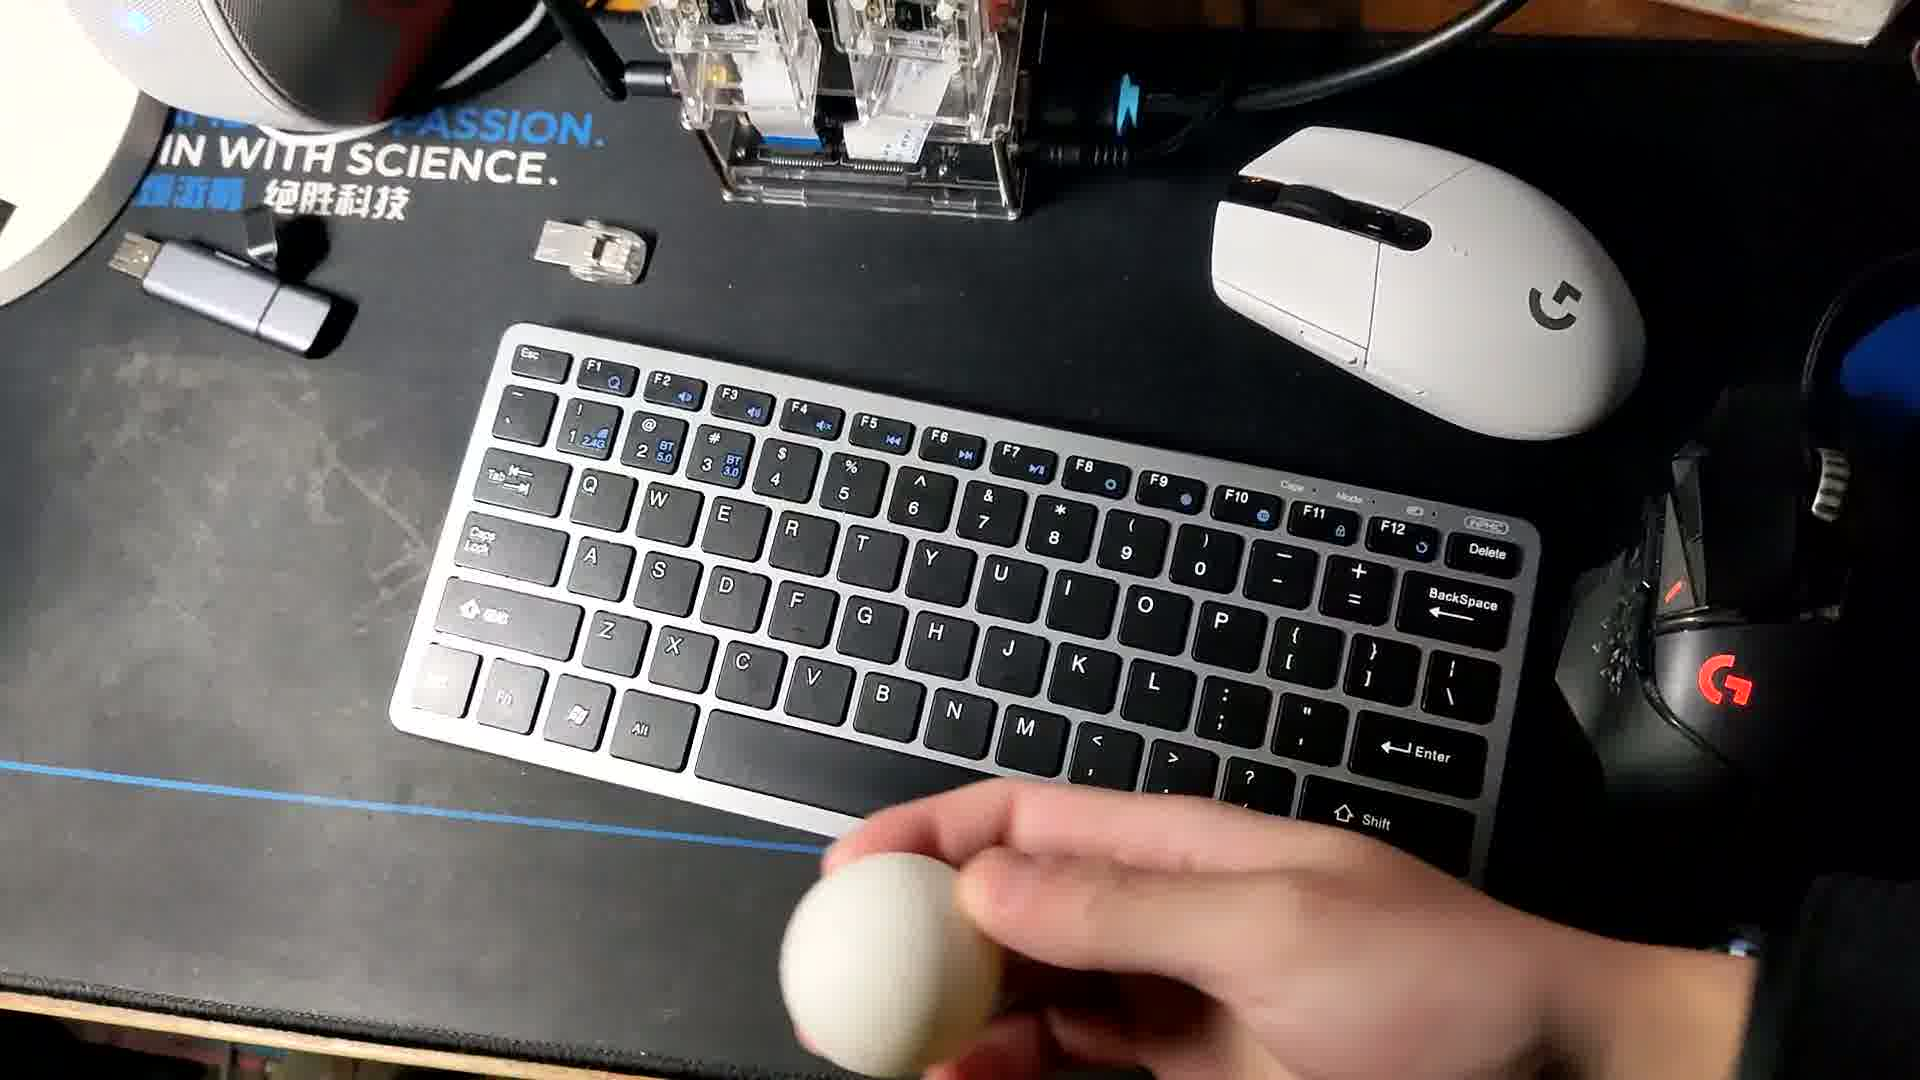Ball: (782, 847, 1007, 1080)
